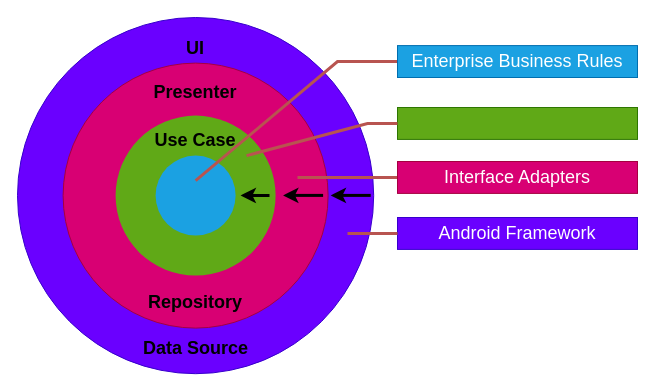
Image size: 655x392. Some labels were removed from this diagram. The shapes that lost their labels are listed below. From the top down, each one's centre as x and y in pixels, then its label:
At pixel 517 122: "Application Business Rules".
At pixel 195 195: "Entity".
